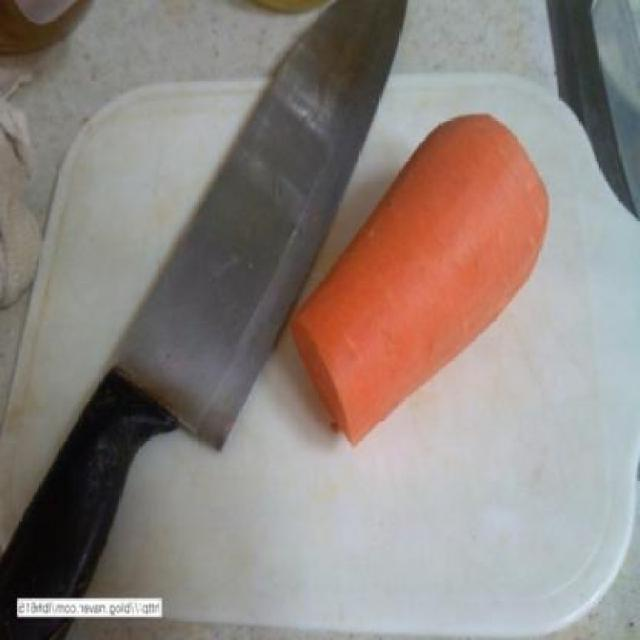Carrot: (294, 115, 548, 443)
